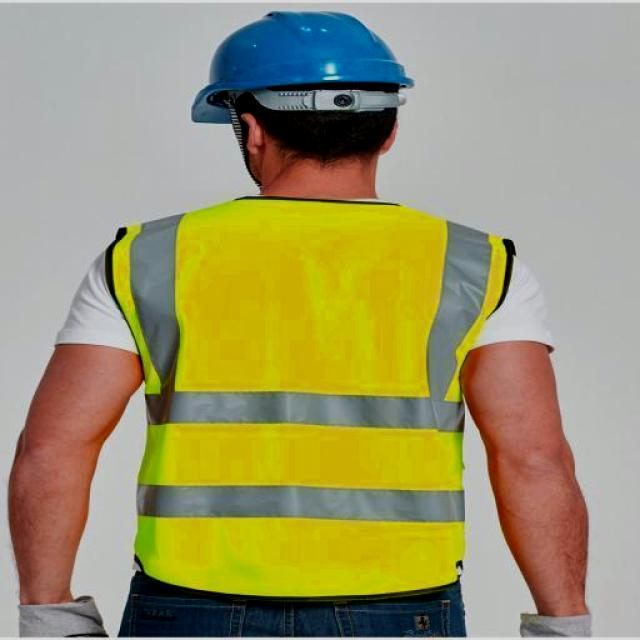head_helmet: (187, 11, 426, 203)
person: (0, 6, 611, 640)
vest: (114, 185, 535, 600)
